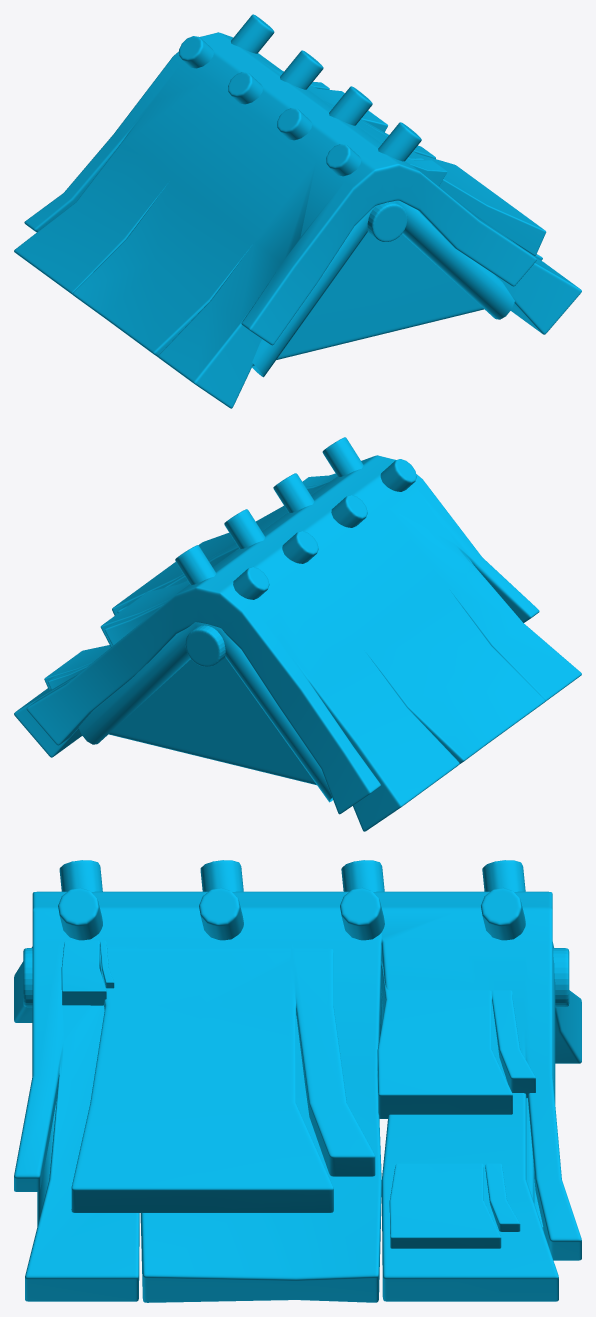
Rendered from SM_Clay_Roof_06.fbx.
3 renders of one model, top to bottom at view 1: azimuth 30°, elevation 25°; view 2: azimuth 150°, elevation 25°; view 3: azimuth 270°, elevation 25°, orthographic. The views are drawn at different scales.
Parts seen in each view (by area): view 1: SM_Clay_Roof_06; view 2: SM_Clay_Roof_06; view 3: SM_Clay_Roof_06.
Part boxes in pixels (left/top/right/bottom): SM_Clay_Roof_06: left=14, top=14, right=581, bottom=408; SM_Clay_Roof_06: left=14, top=437, right=581, bottom=831; SM_Clay_Roof_06: left=14, top=860, right=581, bottom=1302.
Bounding box in the file's own units: 2.87 × 1.61 × 2.52.
